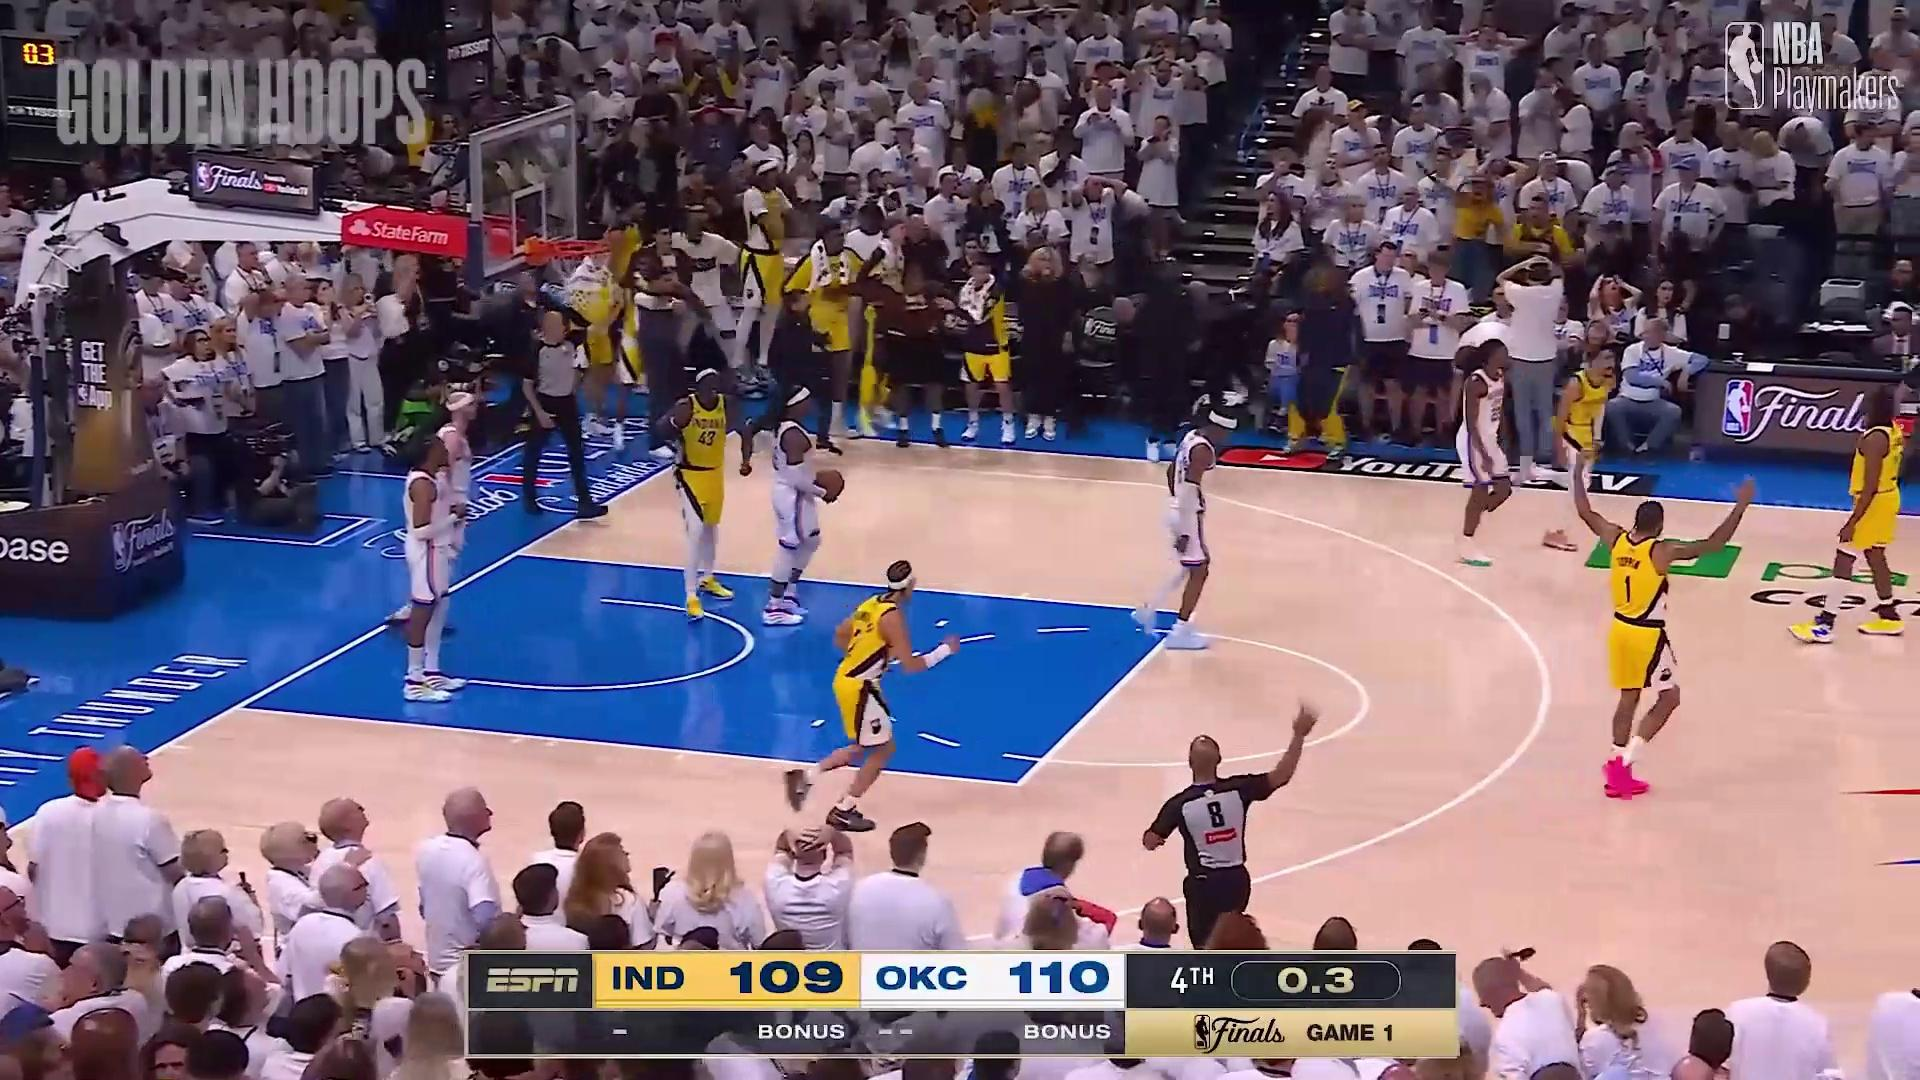ball: (818, 464, 848, 509)
hoop: (553, 224, 613, 310)
